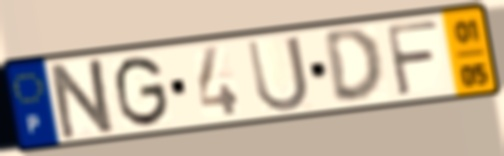4: (197, 43, 242, 120)
D: (320, 25, 387, 105)
F: (382, 17, 442, 99)
G: (112, 53, 172, 130)
N: (48, 54, 120, 143)
U: (243, 32, 312, 115)
